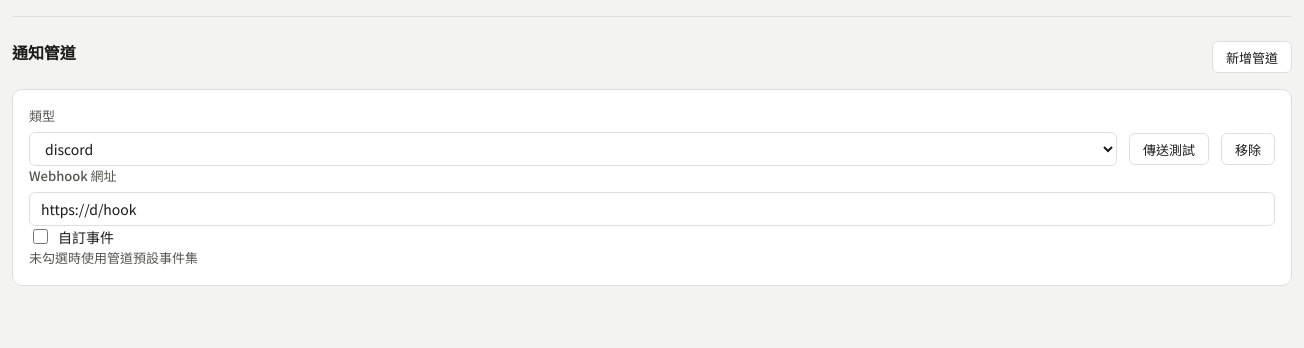
Test: send test shows success and failure results
Click the button "傳送測試": (1169, 149) [1129,133,1209,165]
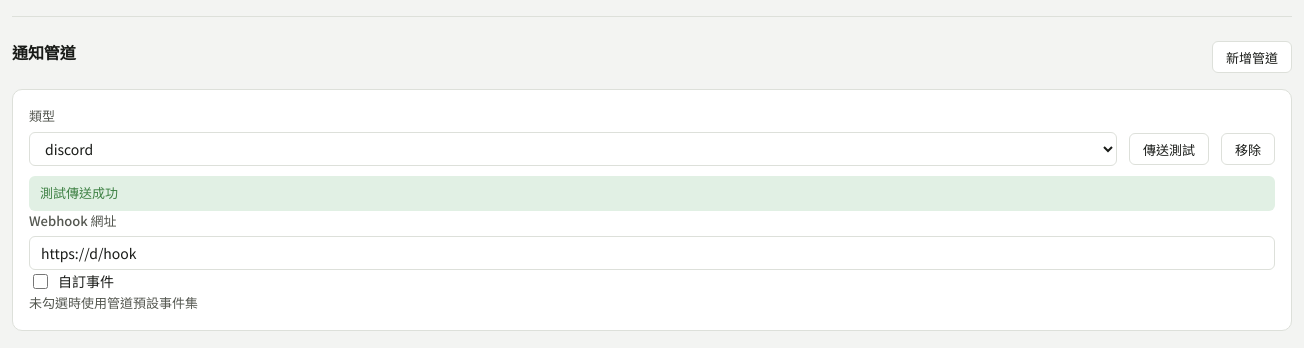
Now the text "測試傳送成功" is shown, box [29,176,1275,211]
Click the button "傳送測試": (1169, 149) [1129,133,1209,165]
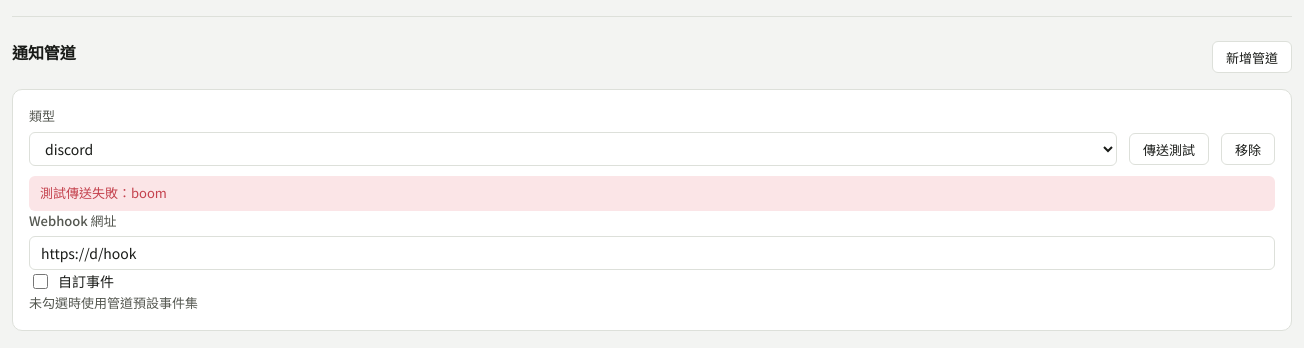
Now the text "測試傳送失敗：boom" is shown, box [29,176,1275,211]
